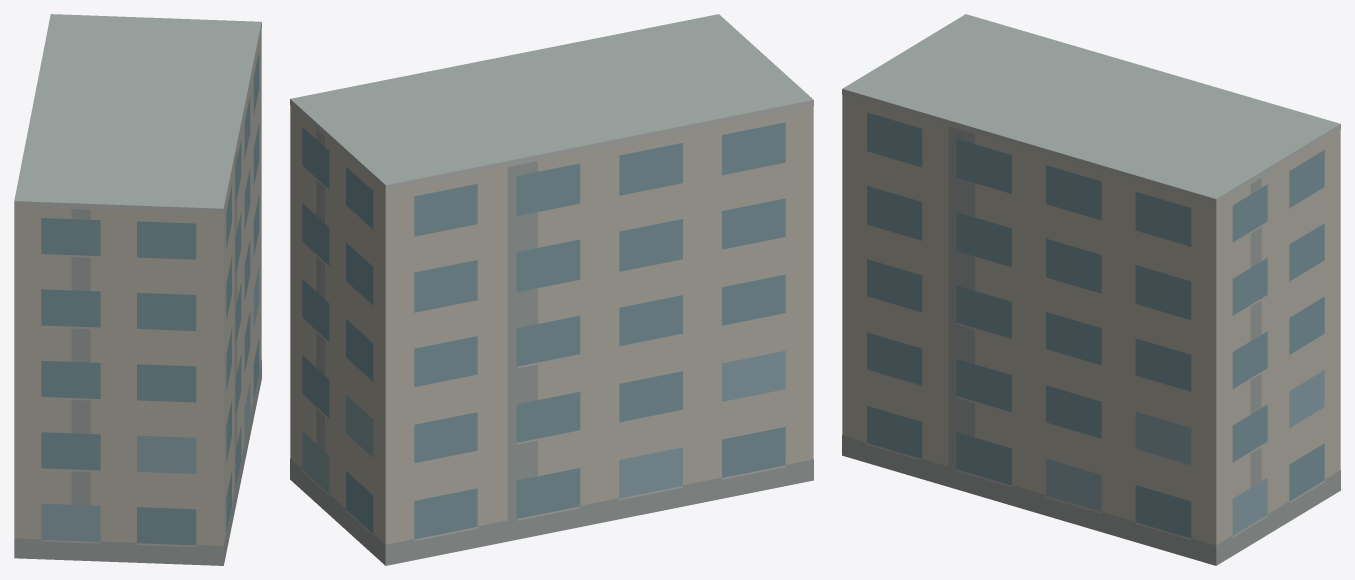
The model's file is survey-upis-32807372.glb.
3 renders of one model, left to right at view 1: azimuth 30°, elevation 25°; view 2: azimuth 150°, elevation 25°; view 3: azimuth 270°, elevation 25°, orthographic. The views are drawn at different scales.
Parts seen in each view (by area): view 1: survey-upis-32807372.tmp; view 2: survey-upis-32807372.tmp; view 3: survey-upis-32807372.tmp.
Boxes of the visible parts, x1=… form: survey-upis-32807372.tmp: x1=14, y1=14, x2=261, y2=565; survey-upis-32807372.tmp: x1=290, y1=14, x2=813, y2=565; survey-upis-32807372.tmp: x1=842, y1=14, x2=1340, y2=565.
Bounding box in the file's own units: 16.35 × 15.1 × 18.61.
